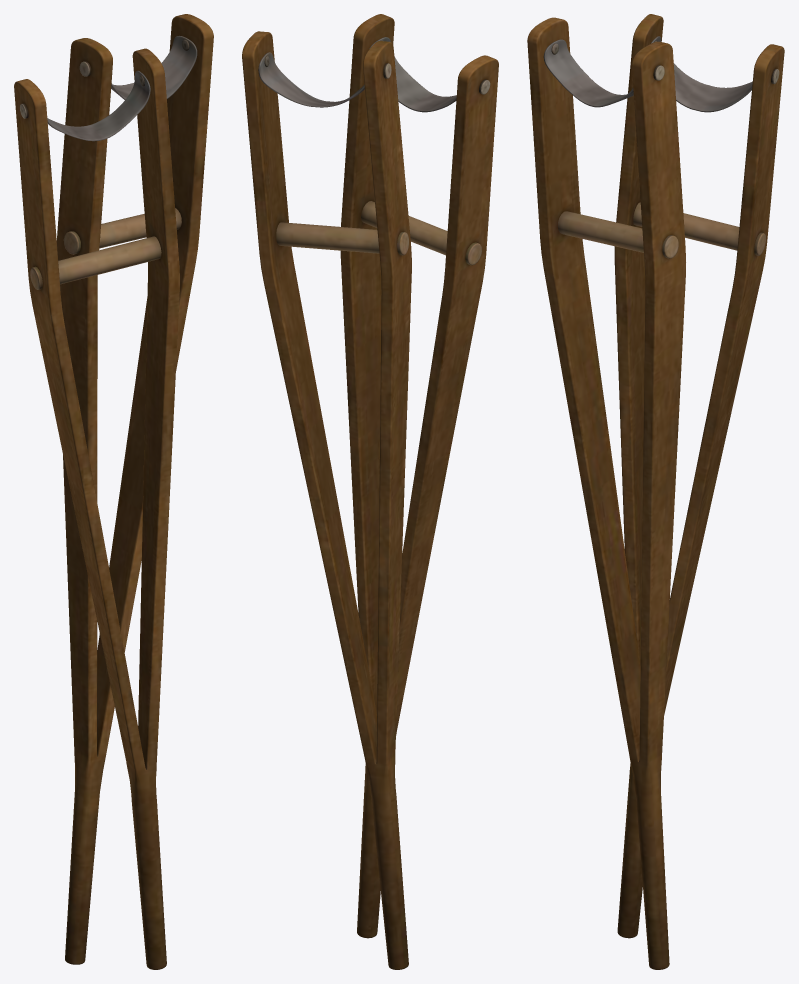
Rendered from ph_vintage_crutches_01.glb.
3 renders of one model, left to right at view 1: azimuth 30°, elevation 25°; view 2: azimuth 150°, elevation 25°; view 3: azimuth 330°, elevation 25°, orthographic.
Visible parts, largest first — view 1: vintage_crutches_01_crutch01; view 2: vintage_crutches_01_crutch01; view 3: vintage_crutches_01_crutch01.
Part boxes in pixels (x1,y1,x2,y2): vintage_crutches_01_crutch01: [14, 14, 213, 969]; vintage_crutches_01_crutch01: [242, 14, 498, 969]; vintage_crutches_01_crutch01: [527, 14, 784, 969].
Size of the model in its own units: 0.3837 by 1.6 by 0.2036.
1 material, 1 textured.
